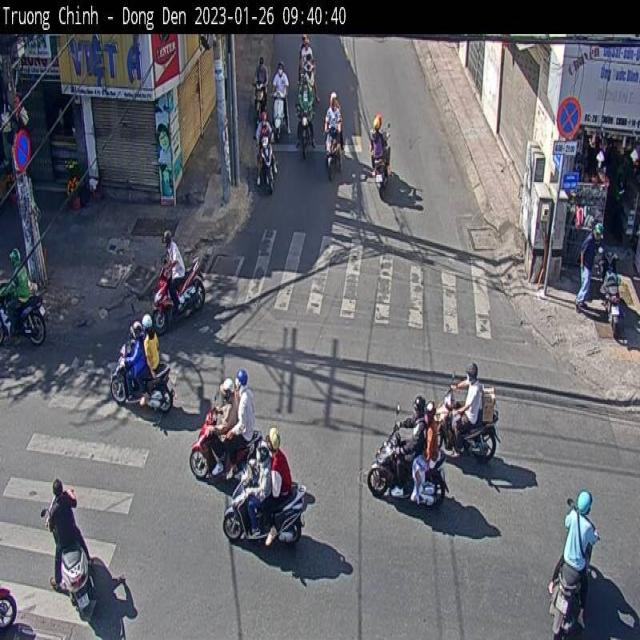with_helmet: (218, 373, 241, 415), (236, 362, 256, 398), (158, 226, 178, 258), (304, 50, 320, 88), (255, 55, 269, 85), (274, 58, 288, 86), (325, 89, 341, 111), (257, 105, 272, 128), (370, 117, 384, 139)
